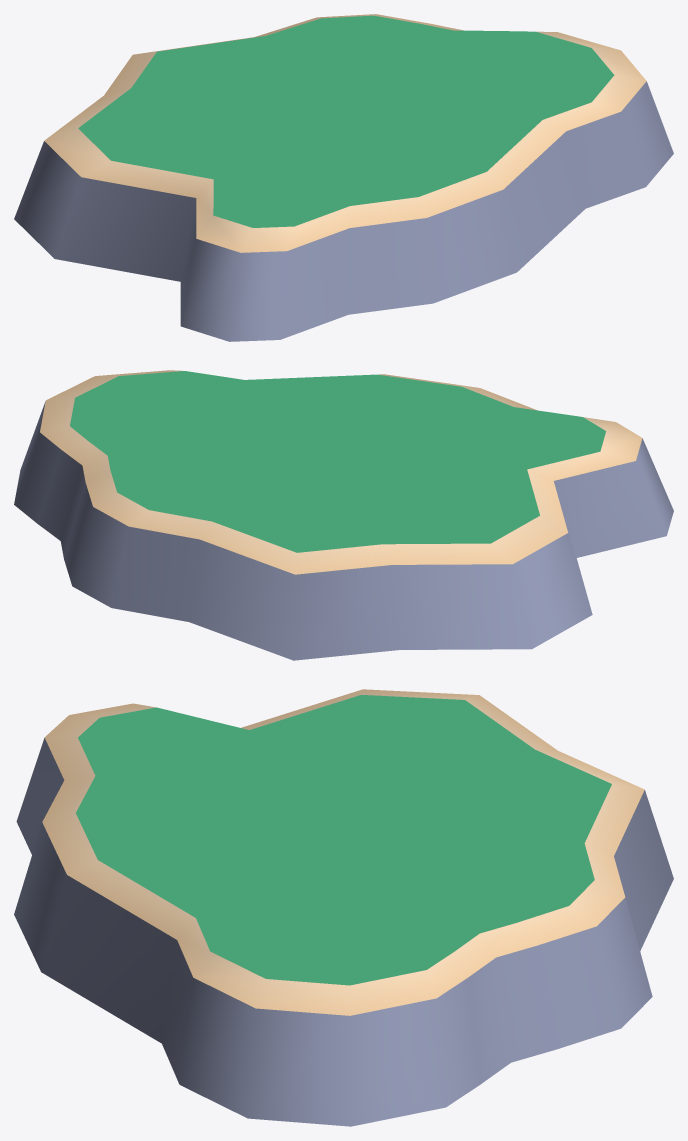
The model's file is Island Final.fbx.
3 views of the same model, one above another, from view 1: azimuth 30°, elevation 25°; view 2: azimuth 150°, elevation 25°; view 3: azimuth 270°, elevation 25° (orthographic). The views are drawn at different scales.
Visible parts, largest first — view 1: patch-grass; view 2: patch-grass; view 3: patch-grass.
Boxes of the visible parts, bbox=[...] form: patch-grass: bbox=[14, 14, 673, 341]; patch-grass: bbox=[14, 370, 673, 660]; patch-grass: bbox=[14, 689, 673, 1126].
Size of the model in its own units: 577 by 81.07 by 450.
